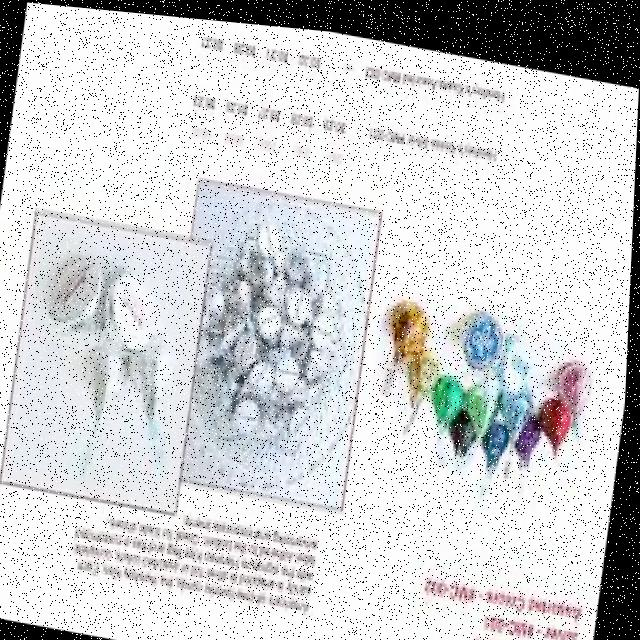kisses: (111, 324, 196, 455), (38, 241, 118, 362), (103, 260, 164, 366), (73, 333, 127, 441), (280, 273, 321, 328), (267, 342, 311, 389), (257, 213, 291, 261), (236, 388, 265, 432)
